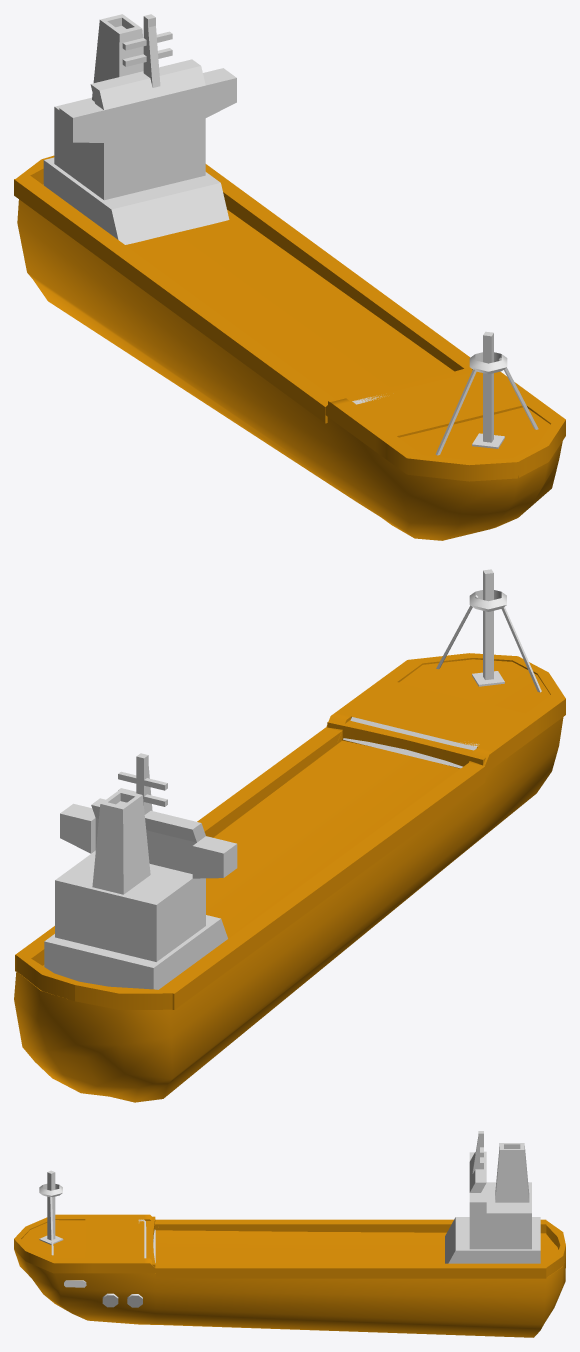
The model's file is CargoShip.fbx.
3 renders of one model, top to bottom at view 1: azimuth 30°, elevation 25°; view 2: azimuth 150°, elevation 25°; view 3: azimuth 270°, elevation 25°, orthographic. The views are drawn at different scales.
Parts seen in each view (by area): view 1: group425647546.001; view 2: group425647546.001; view 3: group425647546.001.
Part boxes in pixels (left/top/right/bottom): group425647546.001: left=14, top=14, right=565, bottom=540; group425647546.001: left=14, top=569, right=565, bottom=1102; group425647546.001: left=14, top=1131, right=565, bottom=1337.
Size of the model in its own units: 0.21 by 0.3813 by 0.975.
